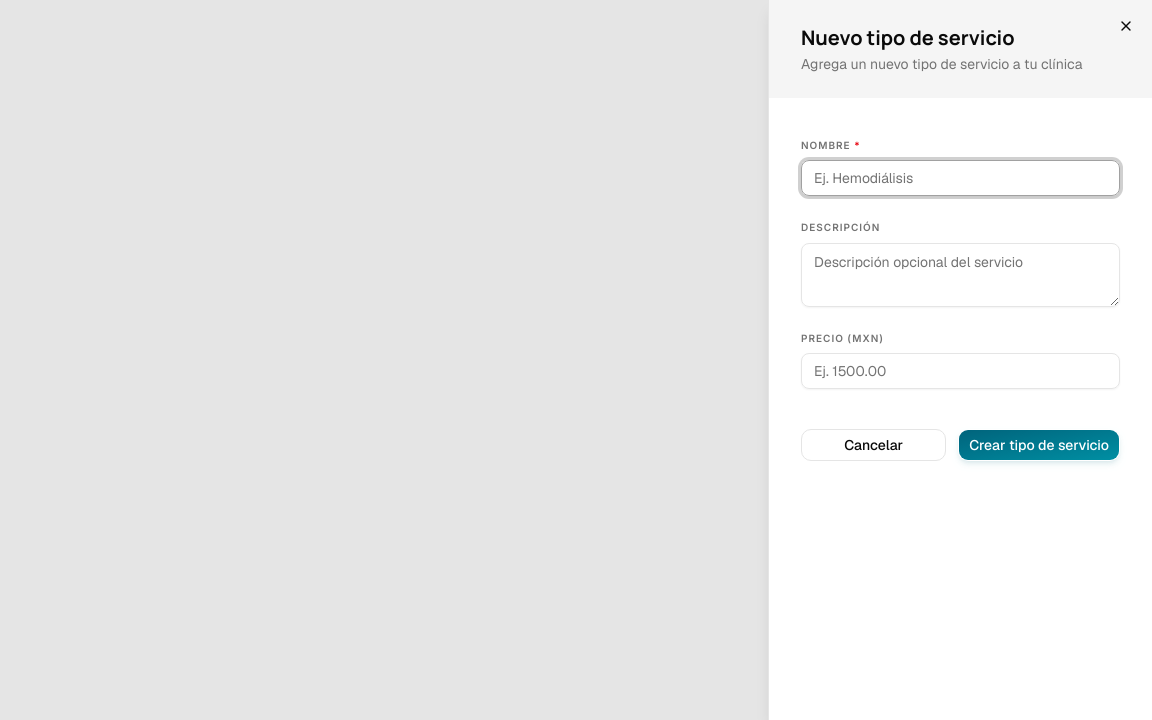
Test: ServiceTypeDrawer › shows validation error when name is empty and form is submitted
Click the button "Crear tipo de servicio".
click(1039, 445)  # box left=958, top=429, right=1120, bottom=461
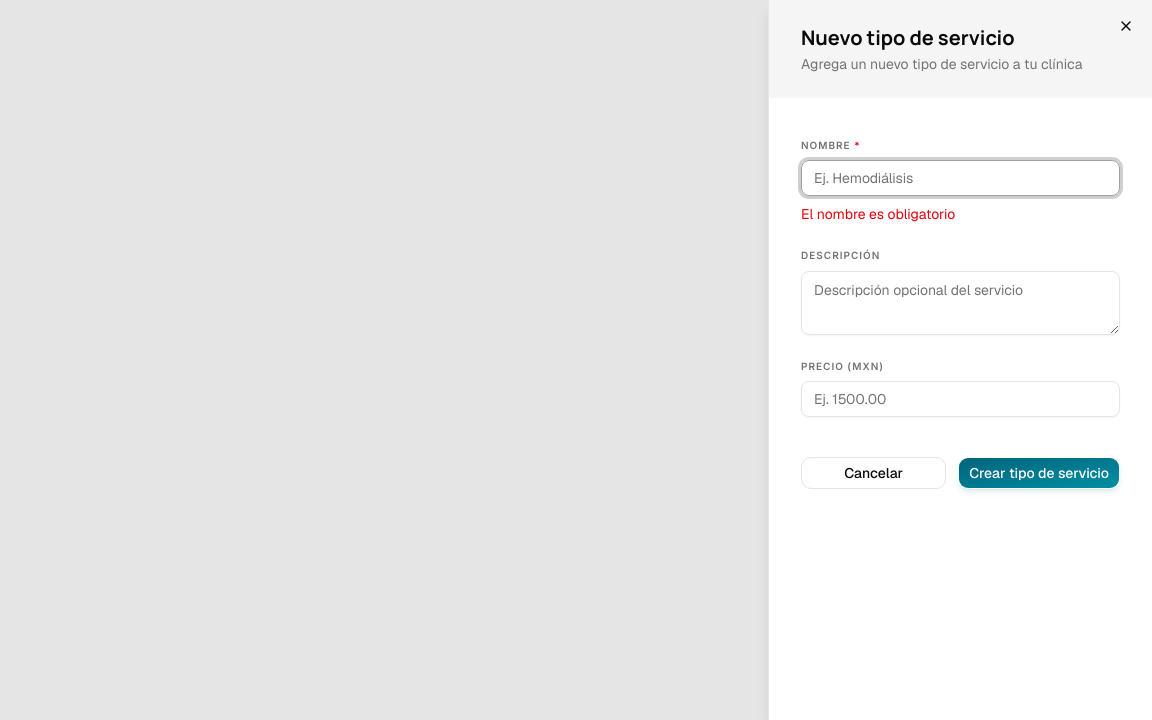
Now the text "El nombre es obligatorio" is shown, box left=801, top=205, right=955, bottom=223
